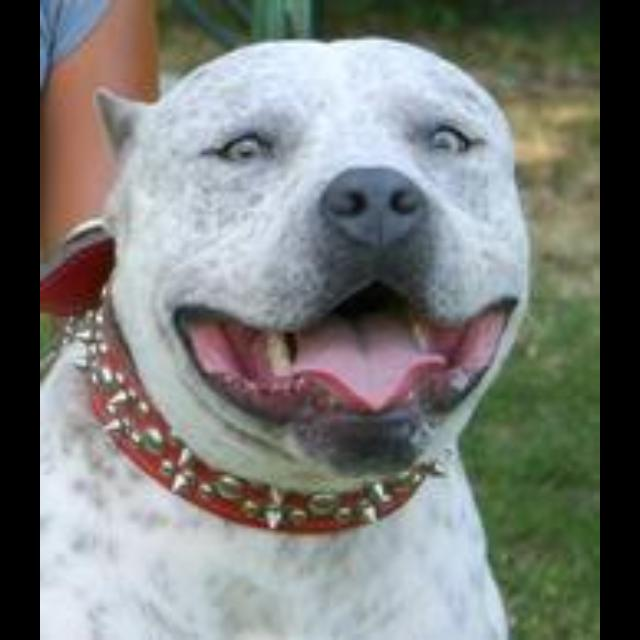amstaff: (42, 35, 533, 638)
